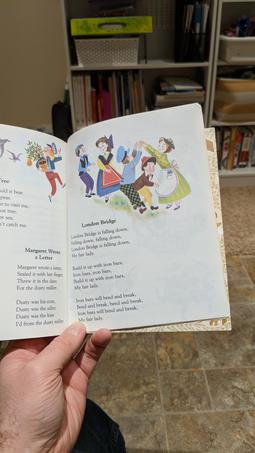text block: (65, 214, 147, 326), (9, 242, 70, 331), (1, 173, 32, 234)
